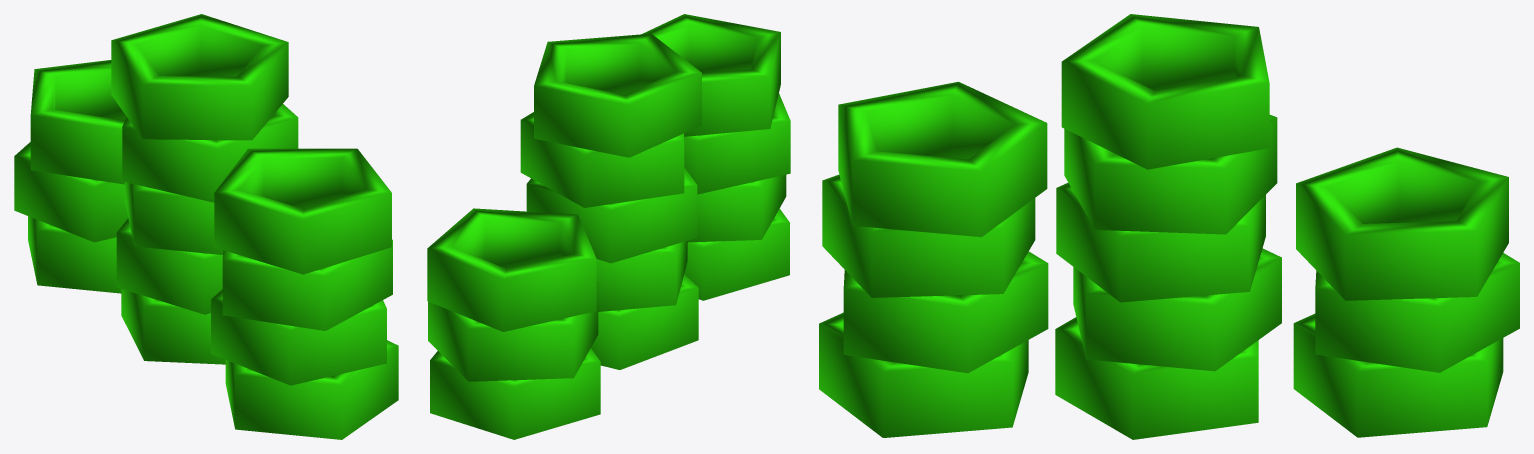
The model's file is Tire_Pile_03_Lod3.fbx.
3 renders of one model, left to right at view 1: azimuth 30°, elevation 25°; view 2: azimuth 150°, elevation 25°; view 3: azimuth 270°, elevation 25°, orthographic. The views are drawn at different scales.
Visible parts, largest first — view 1: Tire_Pile_03_Lod3; view 2: Tire_Pile_03_Lod3; view 3: Tire_Pile_03_Lod3.
Part boxes in pixels (left/top/right/bottom): Tire_Pile_03_Lod3: left=14, top=14, right=398, bottom=439; Tire_Pile_03_Lod3: left=427, top=14, right=790, bottom=439; Tire_Pile_03_Lod3: left=819, top=14, right=1519, bottom=439.
Bounding box in the file's own units: 75.68 × 123 × 234.
